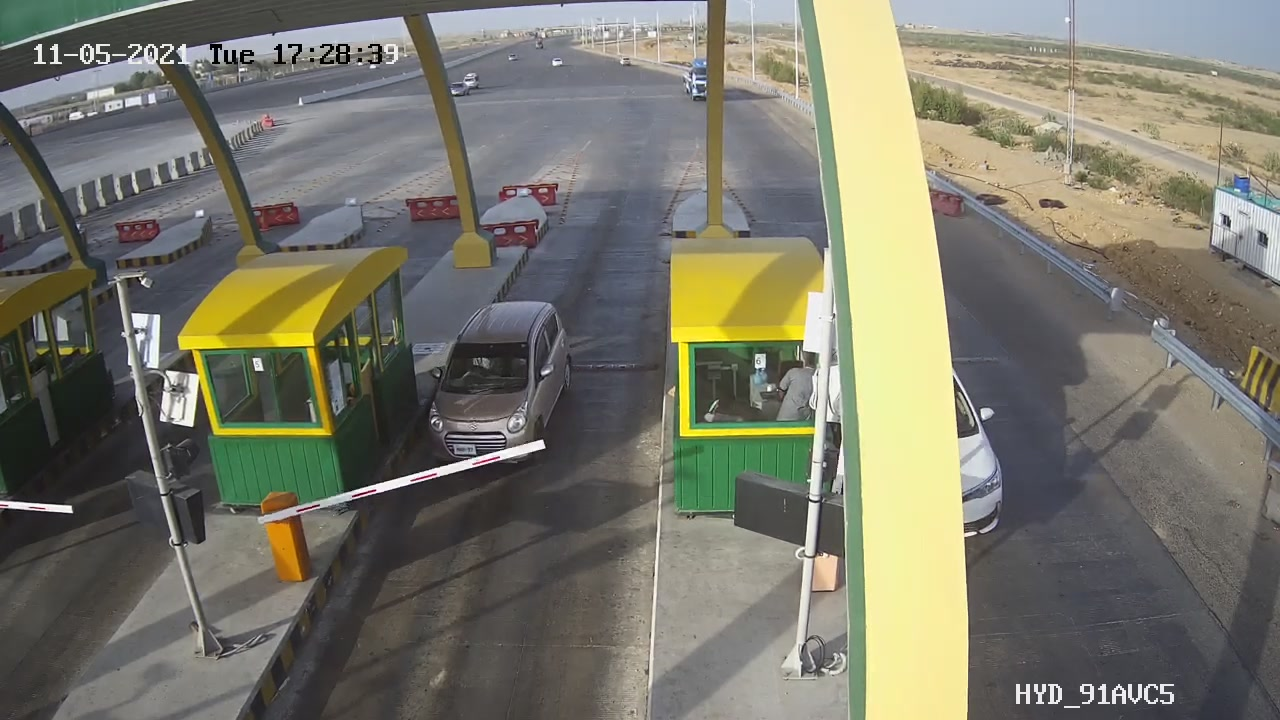F1: (404, 282, 594, 487)
